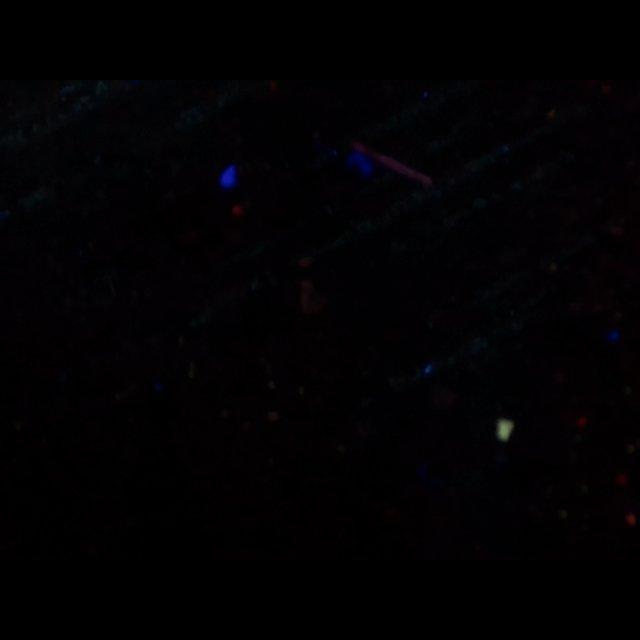microbeads: (498, 420, 514, 442)
